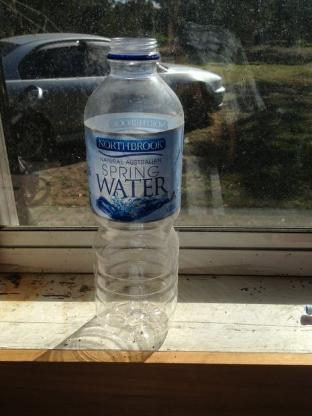Plastic Bottle: (77, 32, 193, 330)
